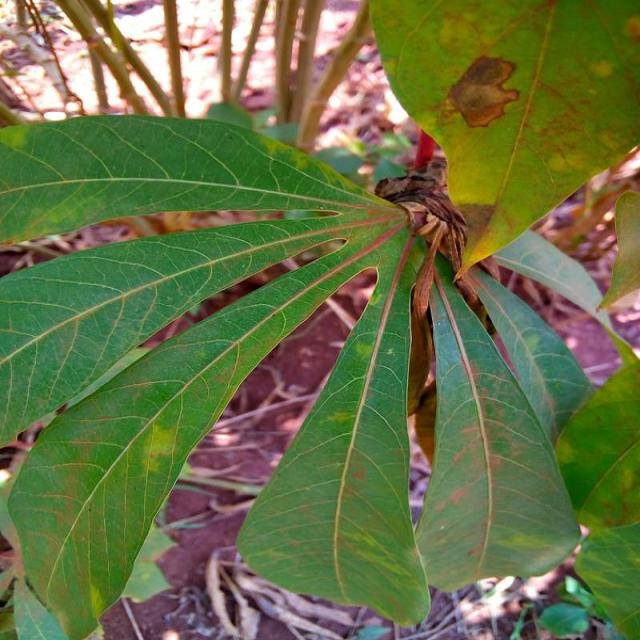cassava leaf: (0, 1, 638, 636), (366, 0, 638, 282), (412, 252, 582, 593)
